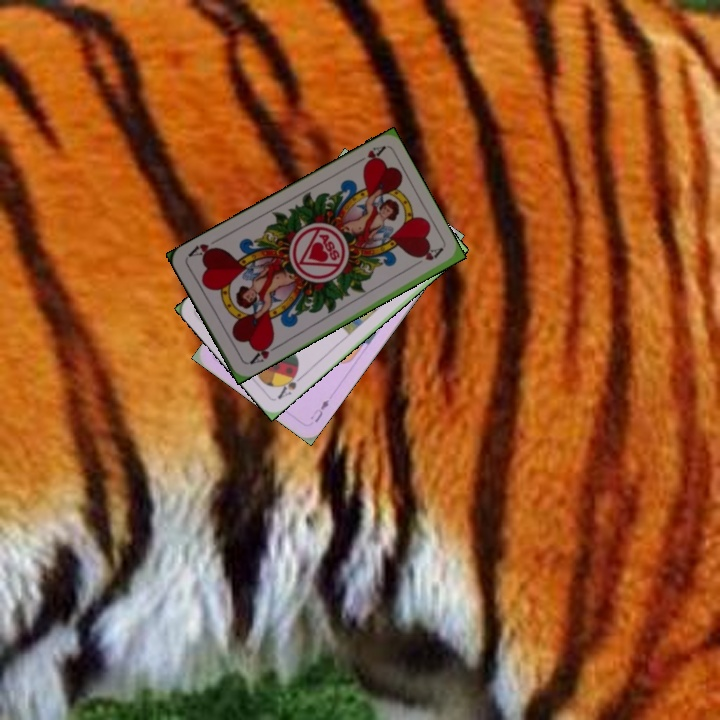EU: (306, 395, 332, 425)
HA: (244, 336, 281, 367), (349, 142, 387, 170)
SA: (273, 366, 306, 402)
